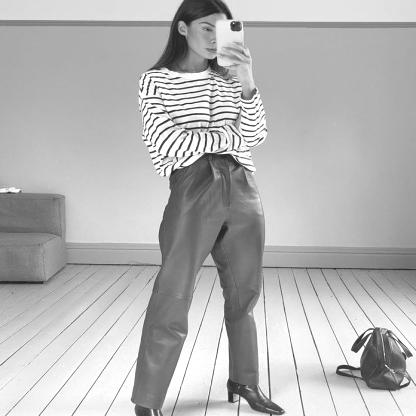dress: (134, 152, 272, 409), (127, 54, 269, 182)
